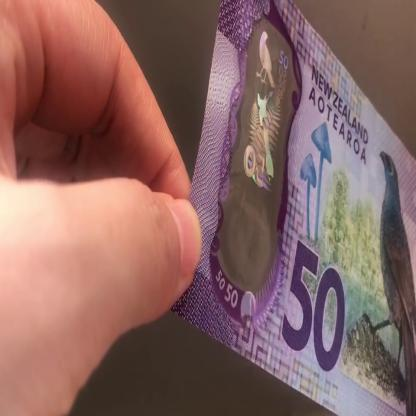50B: (234, 29, 292, 282)
